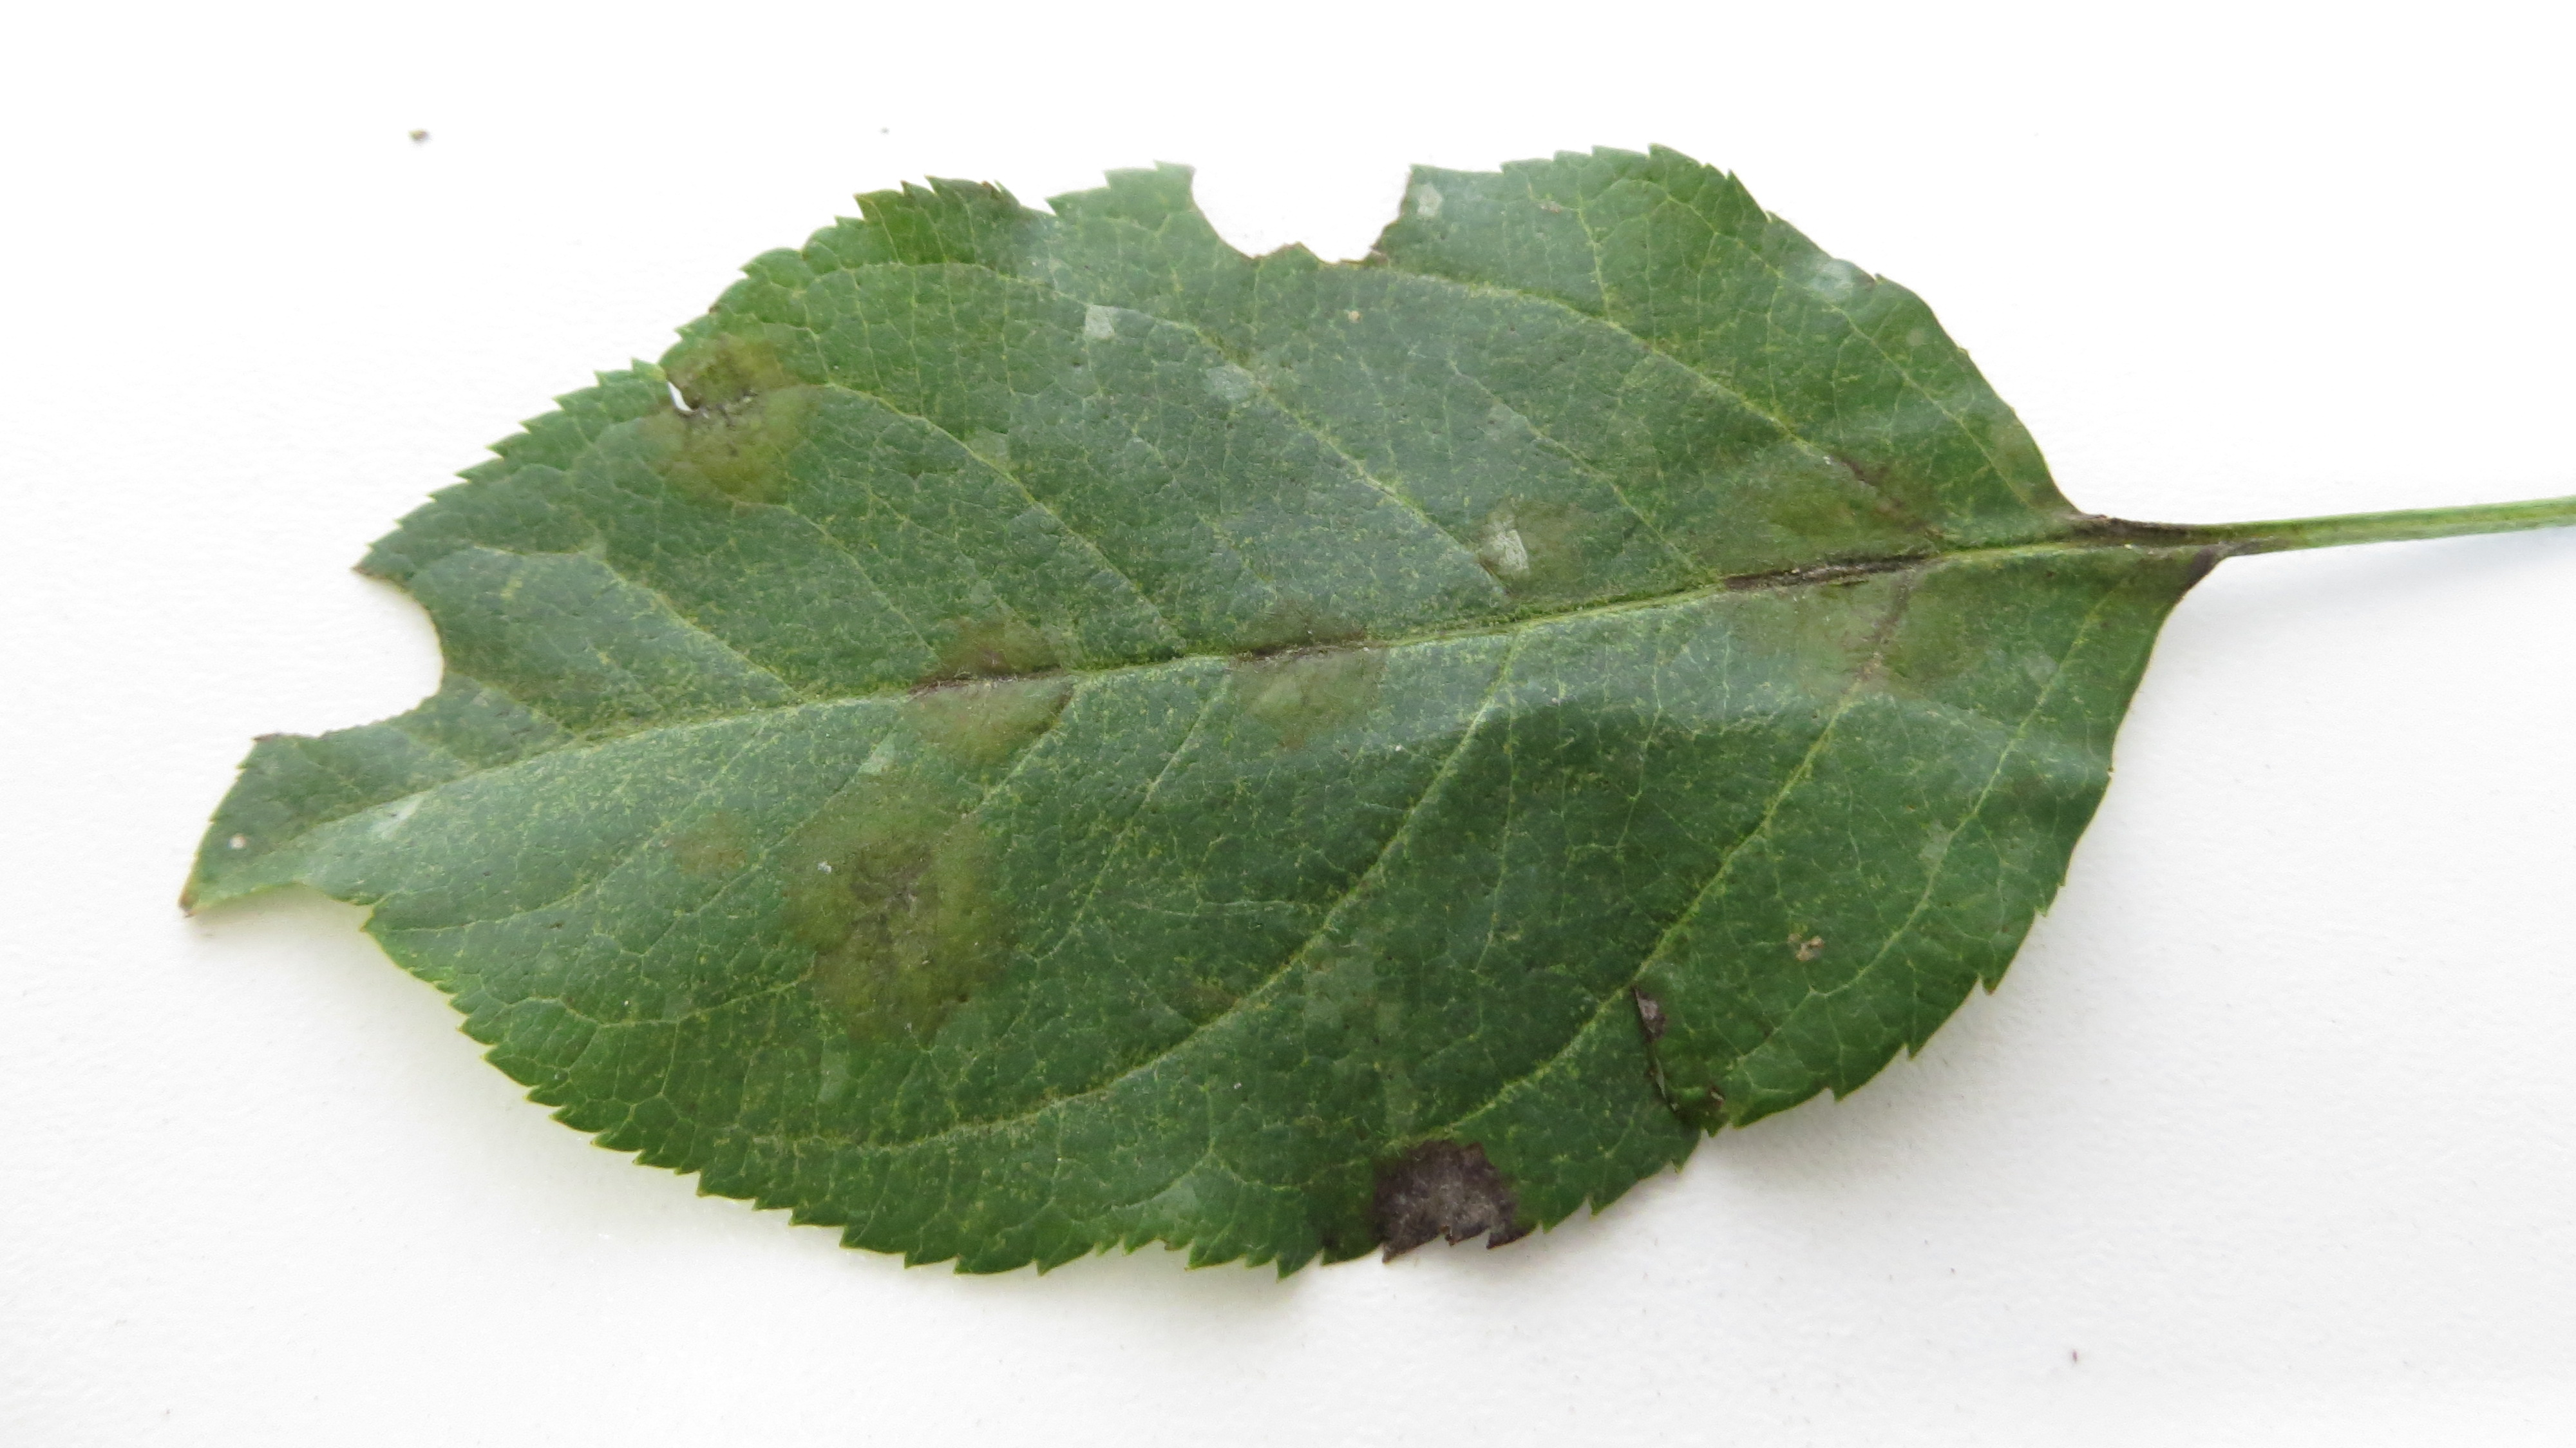sarna: (789, 781, 1007, 1036), (639, 315, 830, 506), (913, 602, 1083, 766), (1223, 586, 1385, 736), (1350, 1124, 1514, 1259), (1463, 476, 1608, 605), (1709, 515, 1840, 655), (1847, 565, 1962, 715), (2066, 499, 2208, 609), (1838, 441, 1948, 570), (667, 795, 778, 901), (1621, 974, 1698, 1071), (1783, 912, 1851, 984)
